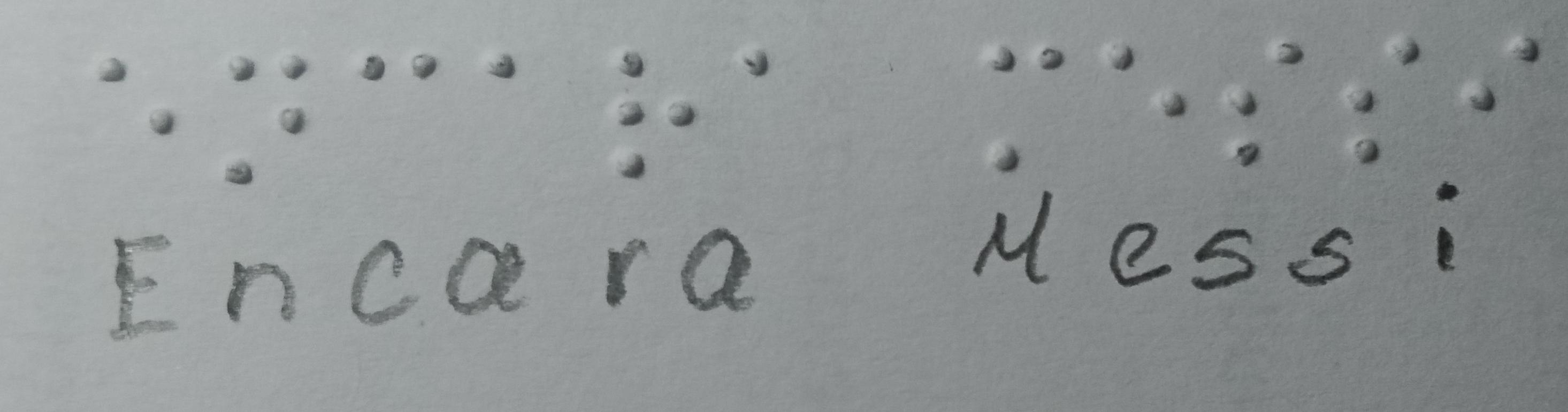a: (706, 28, 814, 128), (465, 30, 542, 139)
c: (340, 33, 458, 191)
e: (67, 46, 216, 194), (1081, 14, 1201, 171)
i: (1442, 14, 1556, 157)
m: (958, 22, 1089, 198)
n: (206, 33, 331, 210)
r: (591, 33, 709, 203)
s: (1327, 14, 1431, 193), (1214, 20, 1317, 185)
